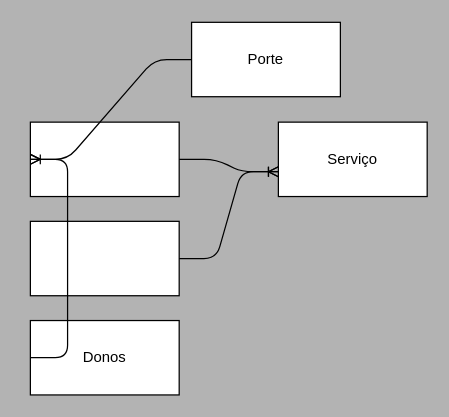
The diagram is 449 pixels wide and 417 high, and some of its shapes have lost their labels. The shapes that lost their labels are listed below. From the top down, each one's box as (x1, y1, x2, y2) in pixels, then its label:
(29, 121, 179, 197): Pet
(29, 220, 179, 296): Vet
